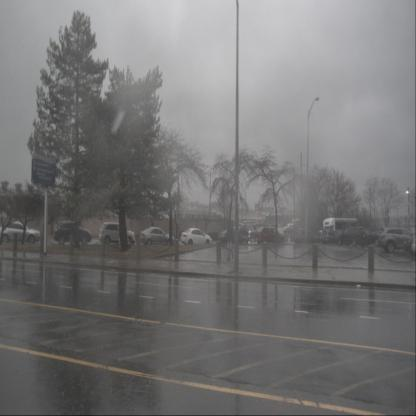cone: (118, 237, 121, 249)
